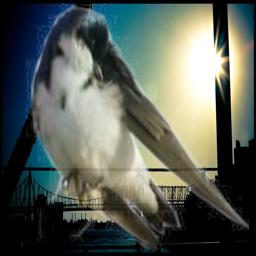Swallow: (26, 3, 249, 250)
